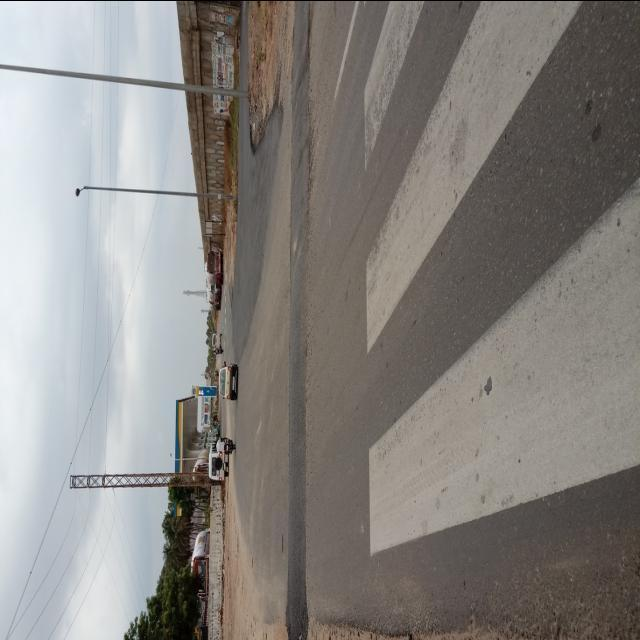Speed_Breaker: (282, 9, 318, 640), (284, 4, 311, 635)
